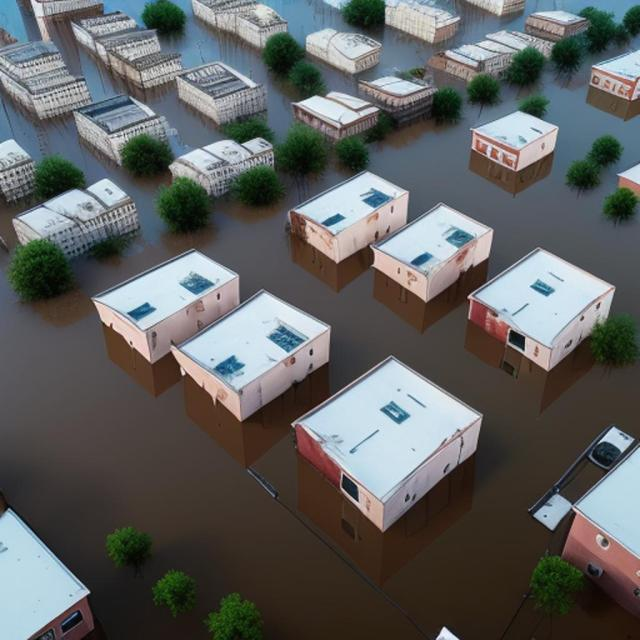flood: (0, 200, 640, 640), (372, 64, 640, 320), (262, 0, 640, 93), (0, 90, 164, 259), (49, 19, 221, 150), (159, 0, 293, 138), (554, 585, 640, 640), (0, 0, 41, 40), (104, 0, 147, 20)
house: (283, 351, 489, 537), (526, 412, 640, 632), (165, 290, 337, 430), (462, 245, 622, 375), (93, 247, 239, 366), (286, 165, 415, 286), (1, 493, 100, 640), (368, 201, 501, 302), (12, 172, 136, 262), (170, 135, 278, 203), (3, 41, 93, 122), (73, 97, 173, 165), (174, 61, 265, 130), (80, 22, 177, 85), (472, 110, 560, 178), (294, 86, 378, 142), (359, 72, 438, 129), (435, 38, 520, 88), (310, 28, 384, 82), (587, 42, 637, 118), (524, 7, 592, 59), (389, 3, 467, 48), (0, 136, 38, 206), (234, 3, 288, 52), (615, 161, 639, 213)
